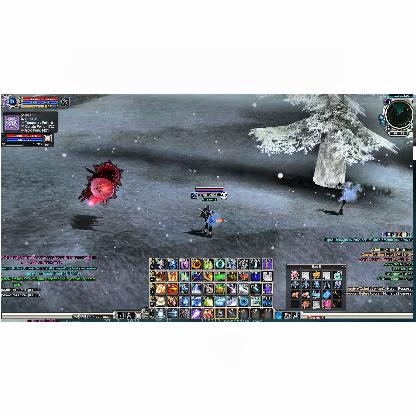caliana: (330, 182, 361, 216)
